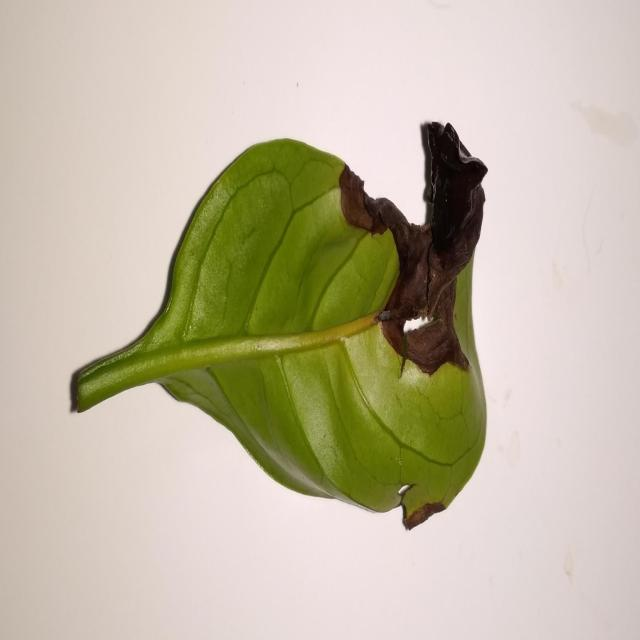Enfermedad-Antracnosis: (68, 122, 489, 532)
